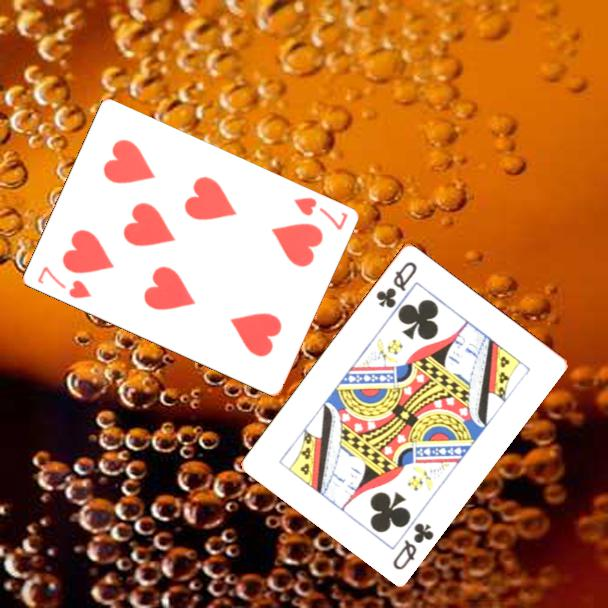c12: (372, 257, 420, 311), (389, 518, 437, 572)
h07: (33, 263, 94, 302), (289, 194, 350, 233)
